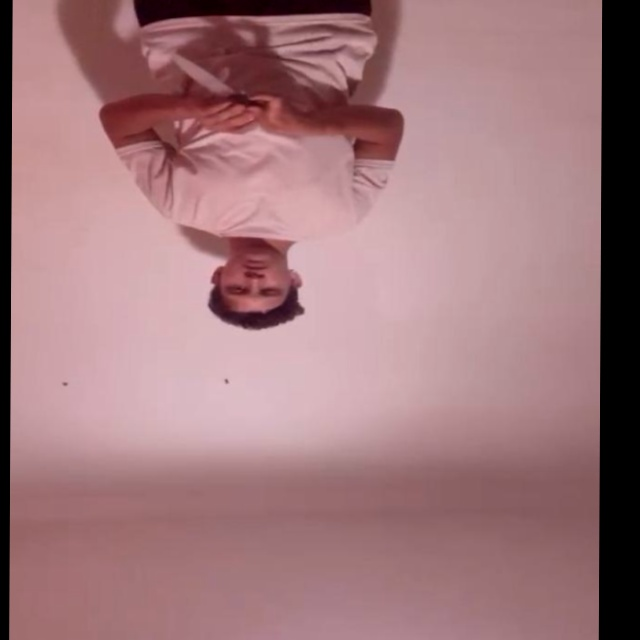Sharp-Object: (179, 58, 230, 96)
